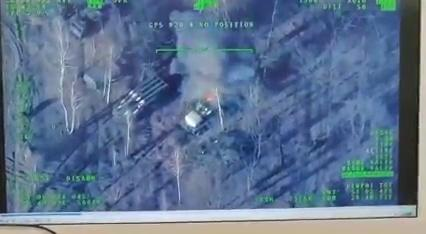rszo: (176, 82, 234, 136), (114, 74, 169, 124)
